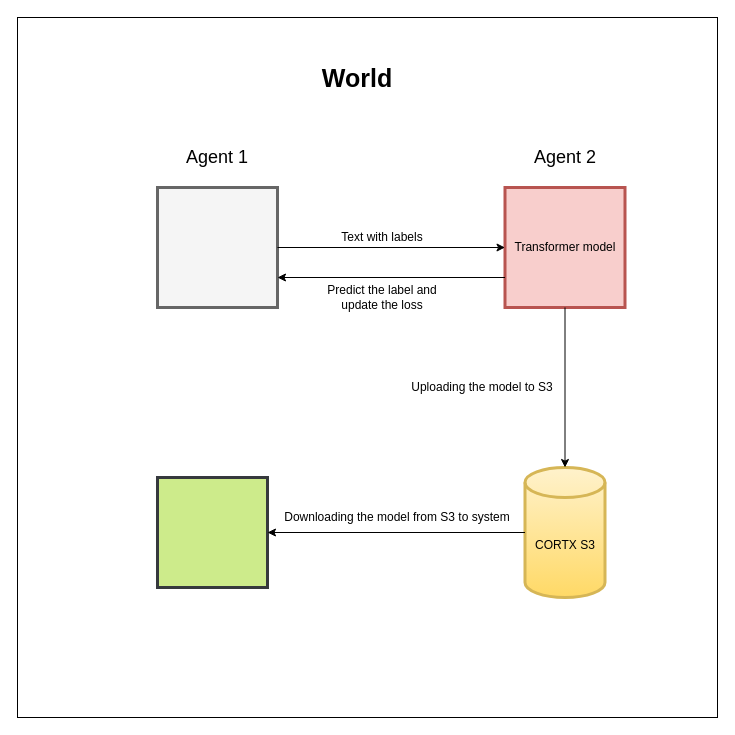
This 735x735 diagram has some shape labels left out. The shapes that lost their labels are listed below. From the top down, each one's centre as x and y in pixels, then its label:
At (217,247): "Dataset".
At (212,532): "Flask web app".
